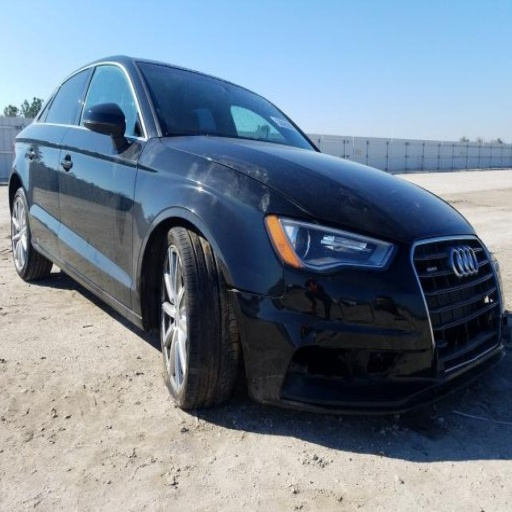dent: (245, 321, 292, 403)
scratch: (260, 398, 316, 412), (250, 370, 283, 386), (240, 337, 252, 360), (289, 363, 310, 374), (287, 282, 293, 289)
